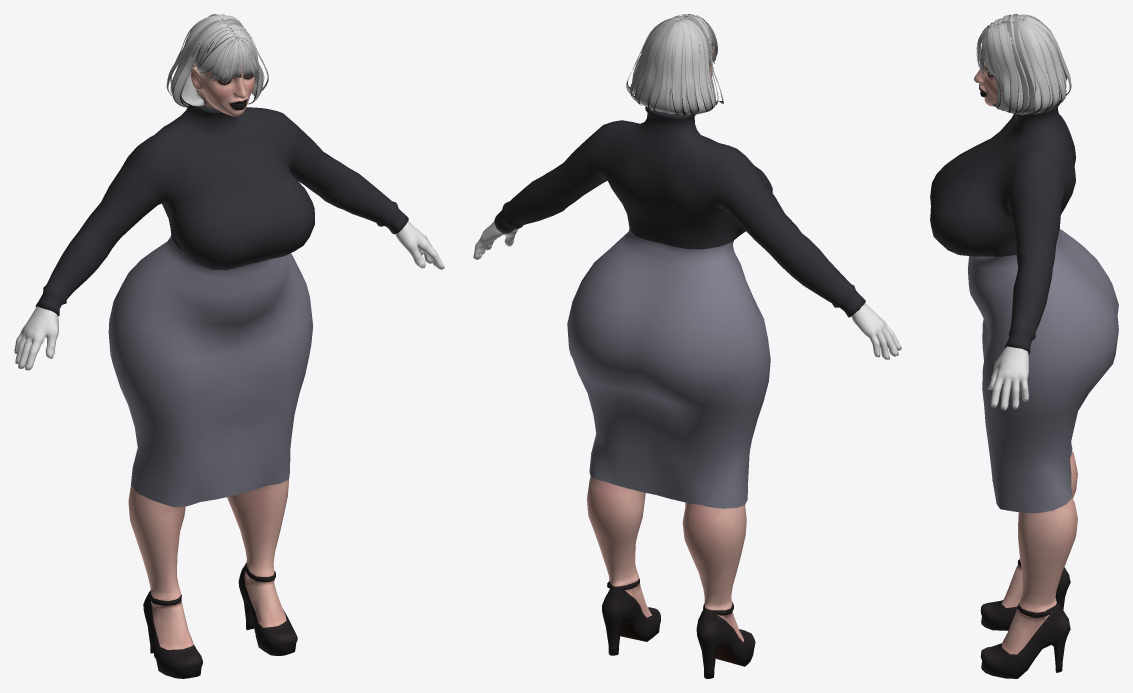
Rendered from salome.fbx.
3 renders of one model, left to right at view 1: azimuth 30°, elevation 25°; view 2: azimuth 150°, elevation 25°; view 3: azimuth 270°, elevation 25°, orthographic.
Parts seen in each view (by area): view 1: salome_LOD0; view 2: salome_LOD0; view 3: salome_LOD0.
Boxes of the visible parts, x1,y1,x2,y2 form: salome_LOD0: (14,14,444,678); salome_LOD0: (473,14,901,678); salome_LOD0: (930,14,1118,678).
Size of what is drawn, in the model's own units: 127 by 183 by 49.8.
Materials: 6 (5 with a texture image).
